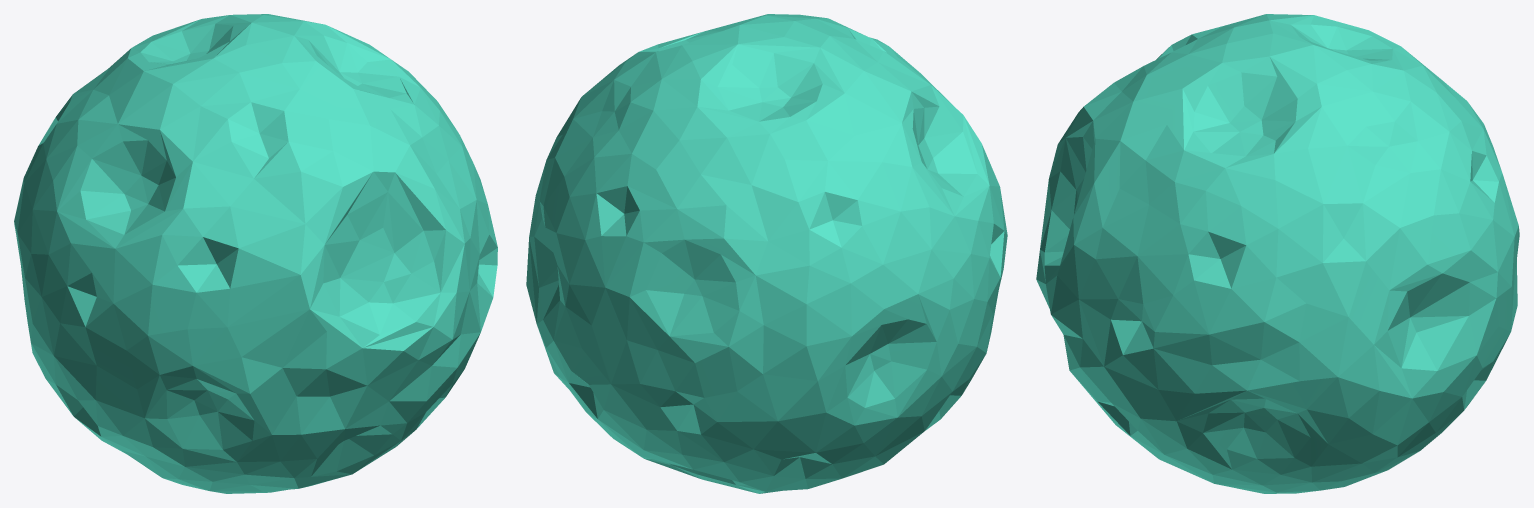
The model's file is moon.obj.
3 views of the same model, side by side, from view 1: azimuth 30°, elevation 25°; view 2: azimuth 150°, elevation 25°; view 3: azimuth 270°, elevation 25° (orthographic).
Visible parts, largest first — view 1: Moon; view 2: Moon; view 3: Moon.
Boxes of the visible parts, <box> form: Moon: <box>14,14,497,493</box>; Moon: <box>526,14,1007,493</box>; Moon: <box>1036,14,1519,493</box>.
Size of the model in its own units: 8.11 by 8.07 by 8.14.
